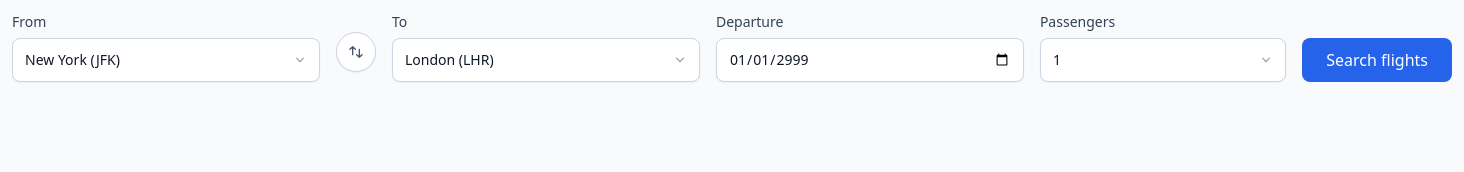
Test: SearchForm › blocks submission when origin and destination are identical
Select "New York (JFK)" in the dropdown labelled "To" at (546, 60), box [392,38,700,82]
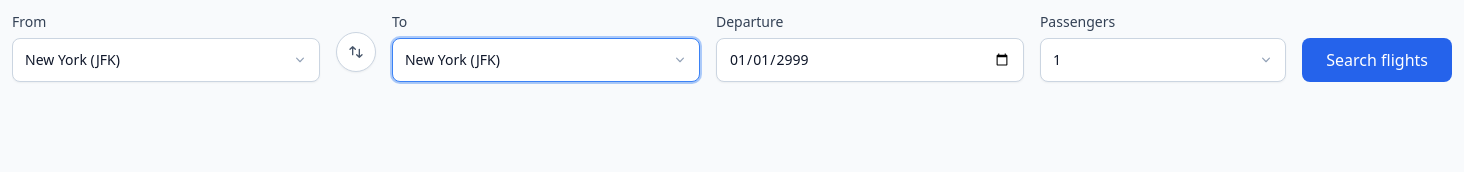
Click the button "Search flights".
click(1377, 60)  # box [1302,38,1452,82]
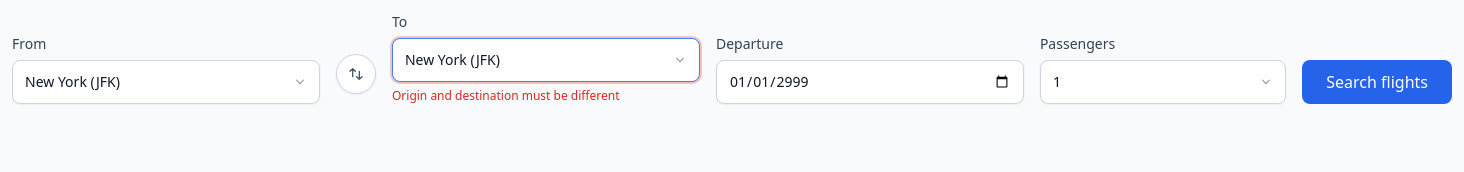
Now the text "Origin and destination must be different" is shown, box [392,87,620,104]
